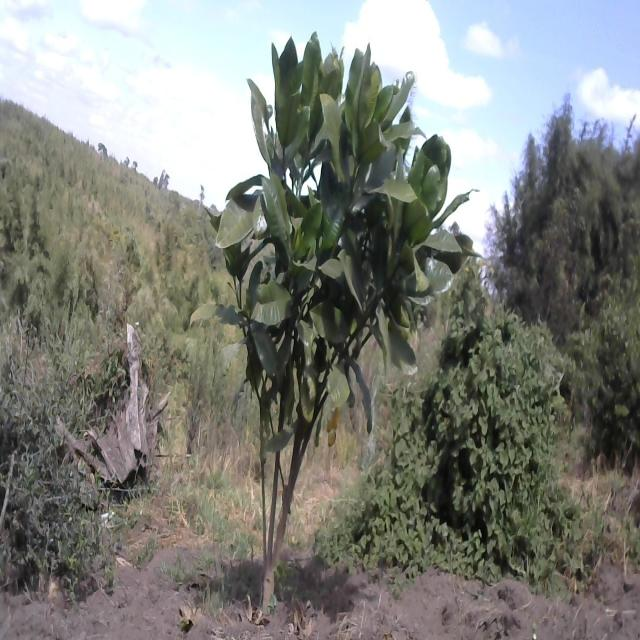other: (209, 16, 475, 640)
